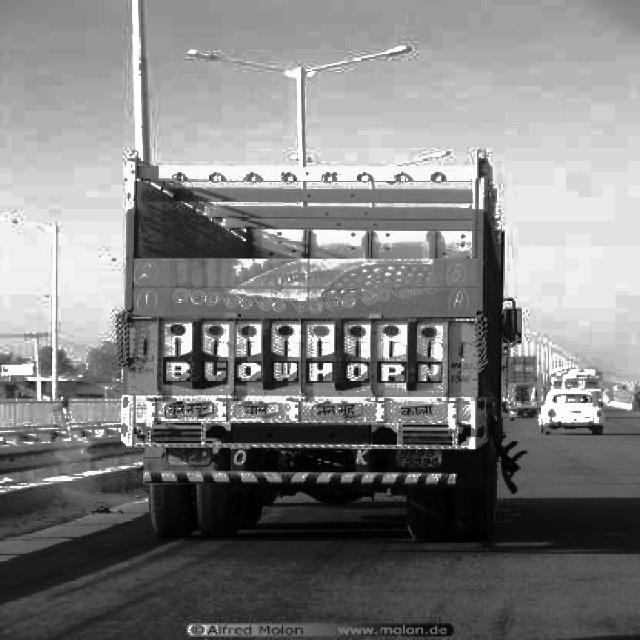HCV: (128, 148, 494, 514)
